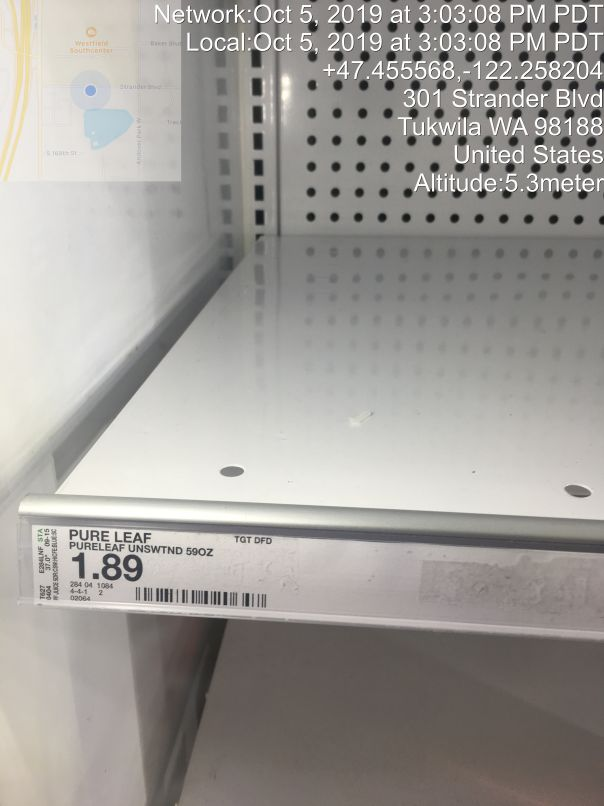Label: (15, 516, 299, 635)
Location: (394, 82, 604, 170)
Time: (150, 3, 604, 55)
Void: (212, 77, 560, 490)
